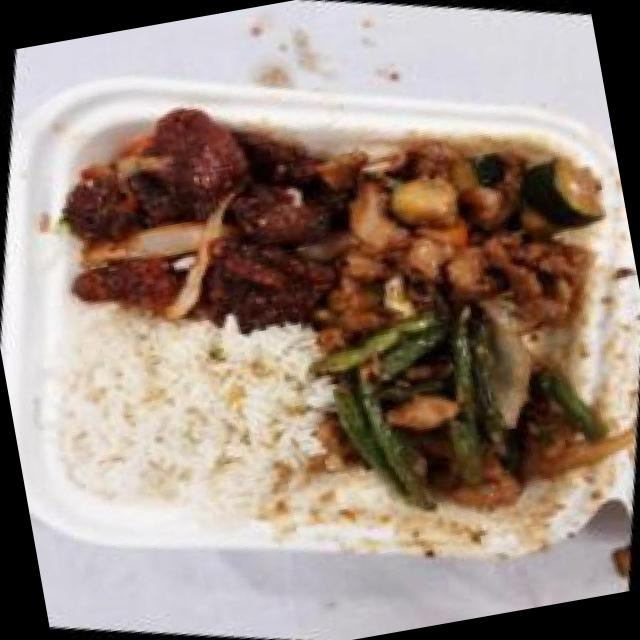Beijing Beef: (17, 52, 390, 384)
Kung Pao Chicken: (292, 78, 639, 381)
String Bean Chicken Breast: (288, 264, 626, 556)
White Steamed Rice: (18, 270, 357, 566), (531, 249, 640, 459)
